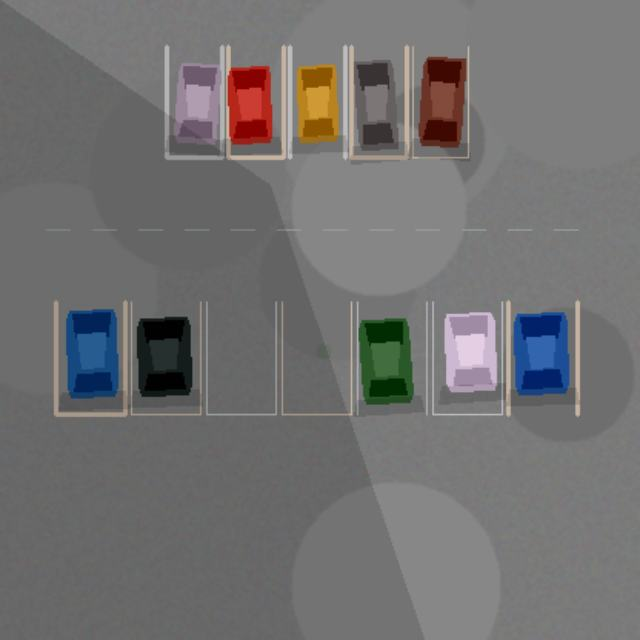space-empty: (206, 302, 275, 414), (282, 302, 351, 414)
space-occupied: (55, 302, 125, 414), (432, 302, 502, 414), (131, 302, 200, 414), (357, 302, 426, 414), (508, 302, 577, 414), (166, 46, 222, 157), (289, 46, 345, 157), (412, 46, 468, 157), (228, 46, 283, 157), (351, 46, 406, 157)
